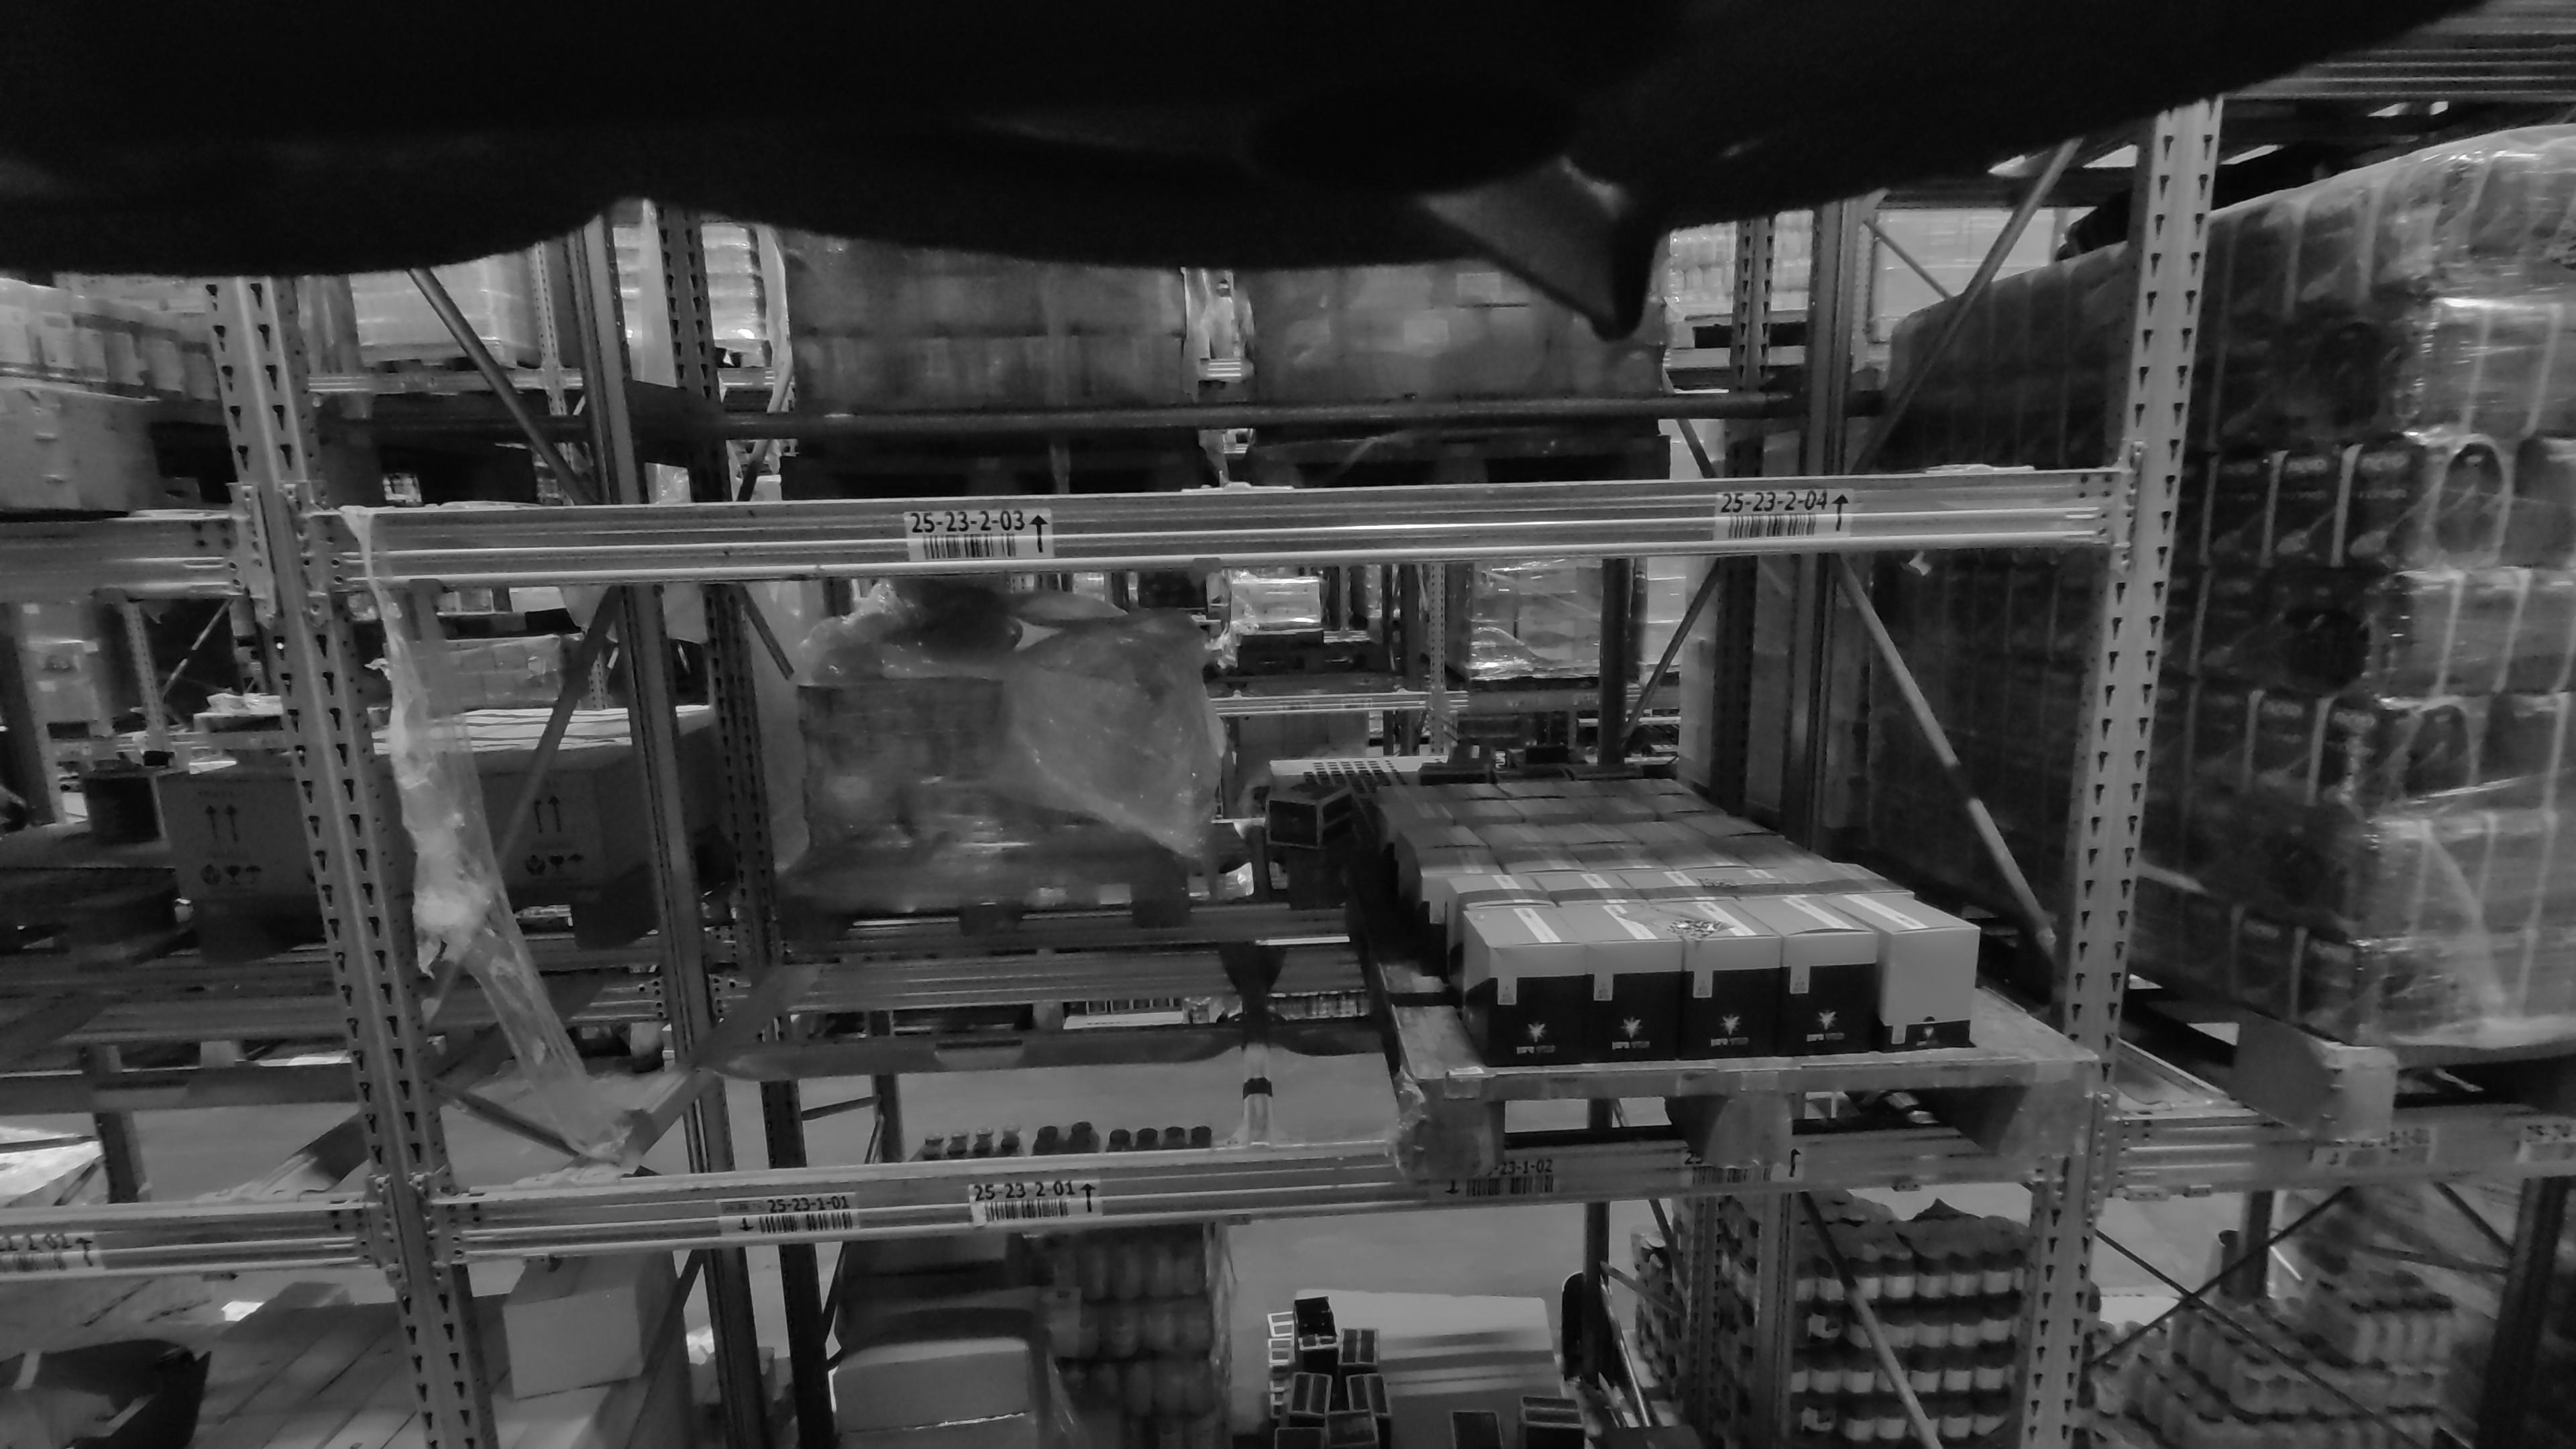empty-shelf: (651, 577, 1325, 1162), (0, 610, 303, 1214), (499, 237, 1184, 488), (1302, 226, 1930, 476)
